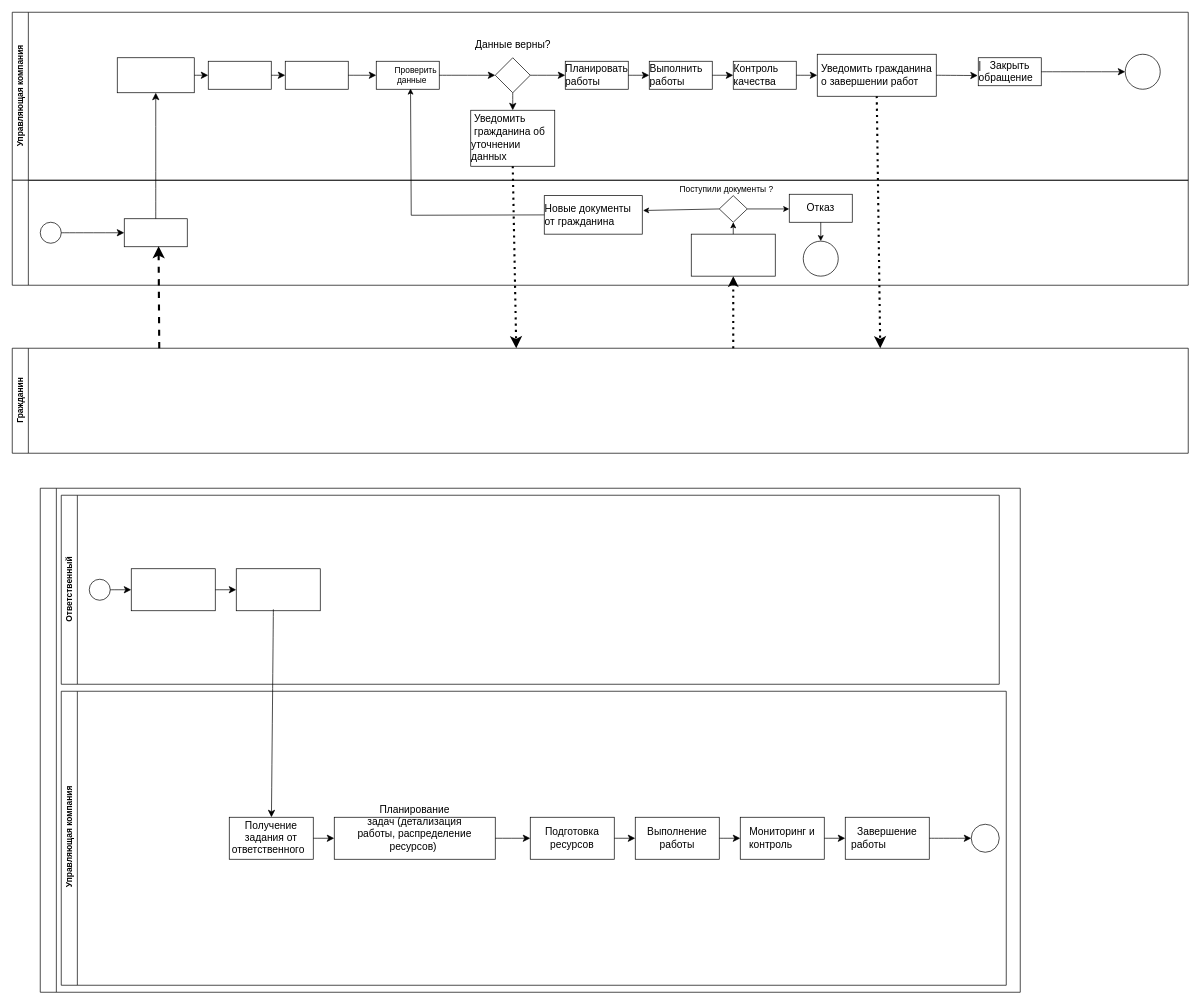
Some shapes in this 1201 by 1005 pixel diagram are drawn without their labels. Each missing label, with the box of its shape:
Анализ обращения: (208, 61, 271, 89)
Декомпозиция блока "Выполнение работы": (40, 488, 1020, 992)
Зарегистрировать обращение: (117, 57, 194, 93)
менеджер: (12, 180, 1188, 285)
Назначить ответственного: (285, 61, 348, 89)
Новая информация от клиента: (691, 233, 775, 276)
Получение обращения: (131, 568, 215, 611)
Получить обращение: (124, 218, 187, 247)
Формирование ТЗ: (236, 568, 320, 611)
